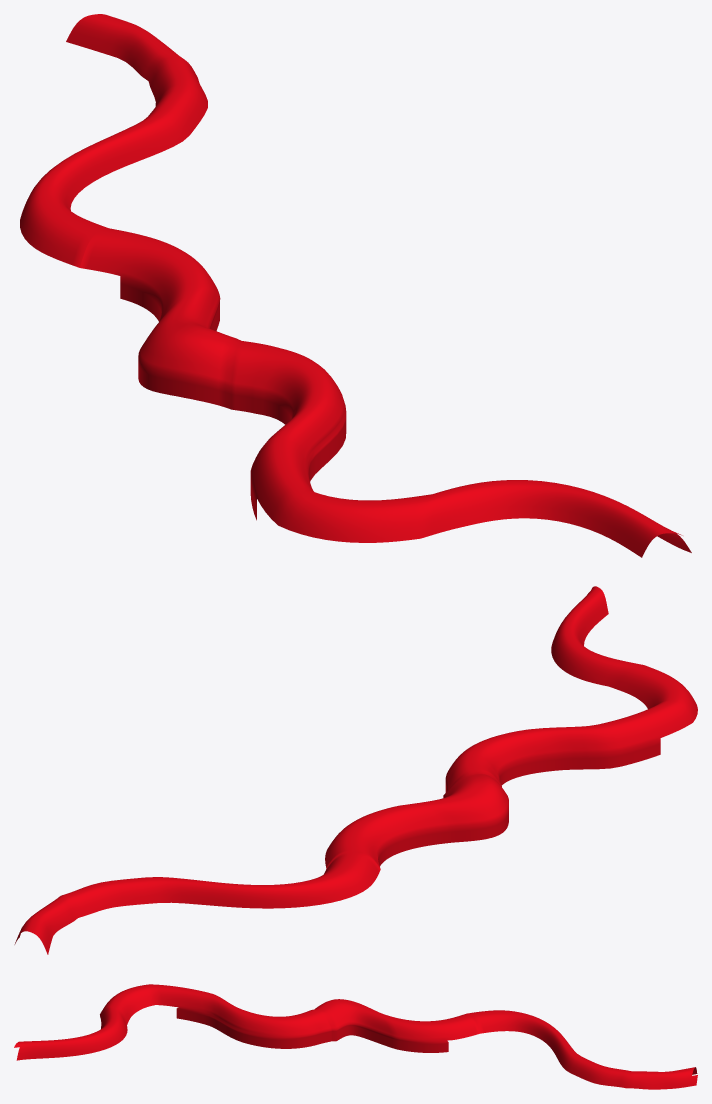
File: River3.fbx
3 views of the same model, one above another, from view 1: azimuth 30°, elevation 25°; view 2: azimuth 150°, elevation 25°; view 3: azimuth 270°, elevation 25° (orthographic). The views are drawn at different scales.
Visible parts, largest first — view 1: River3_LOD0; view 2: River3_LOD0; view 3: River3_LOD0.
Boxes of the visible parts, x1,y1,x2,y2 form: River3_LOD0: [20, 14, 691, 557]; River3_LOD0: [14, 586, 697, 954]; River3_LOD0: [14, 984, 697, 1089].
Size of what is drawn, in the model's own units: 5569 by 724 by 16435.
